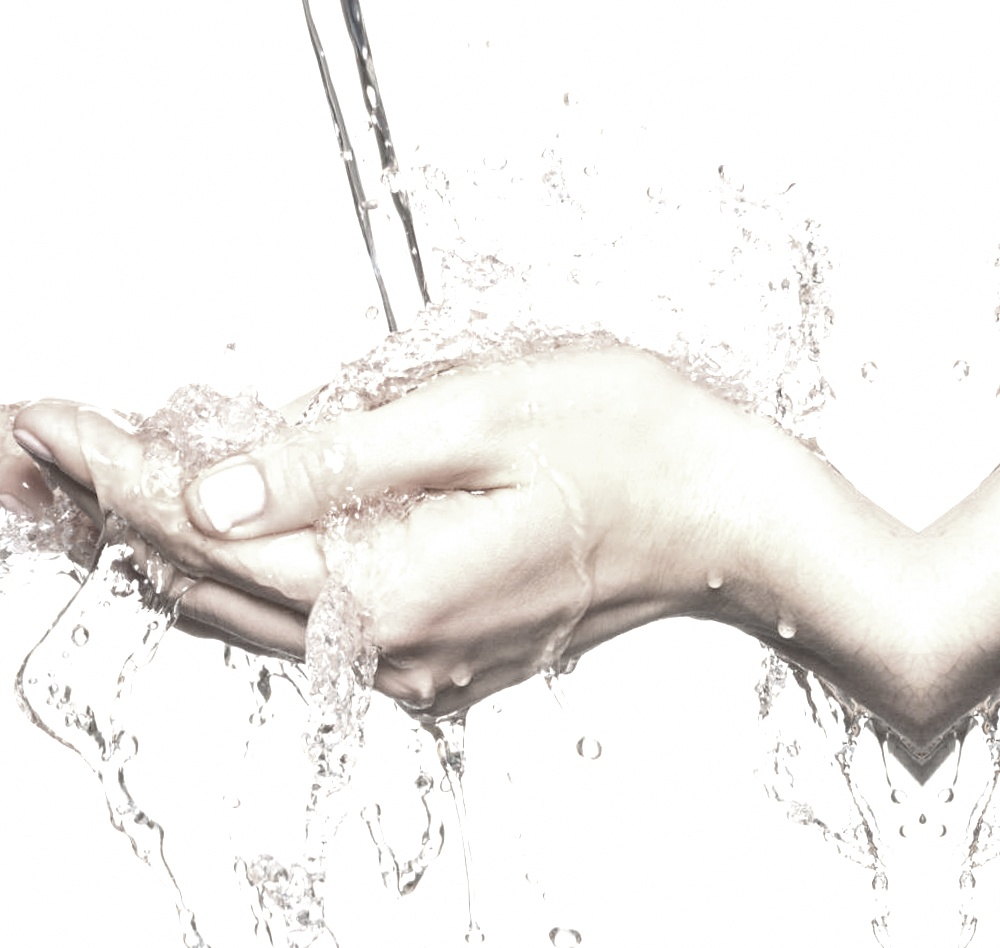washing hand: (0, 15, 891, 947)
